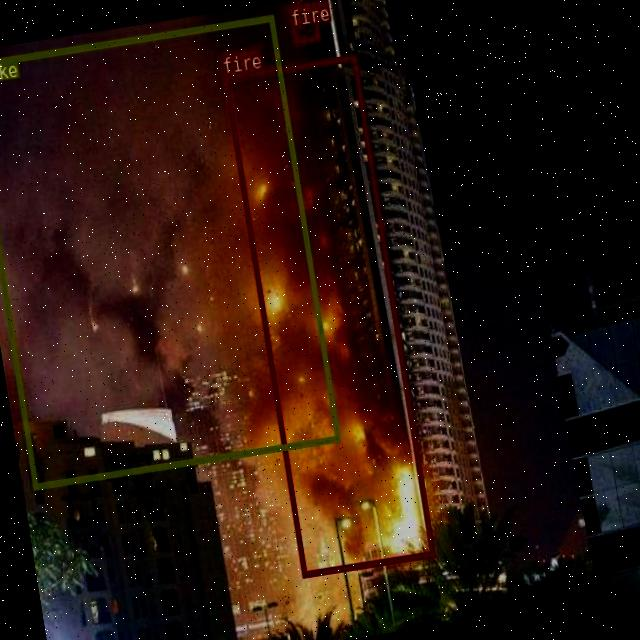fire: (223, 54, 435, 576), (286, 1, 320, 44)
smoke: (0, 15, 340, 489)
